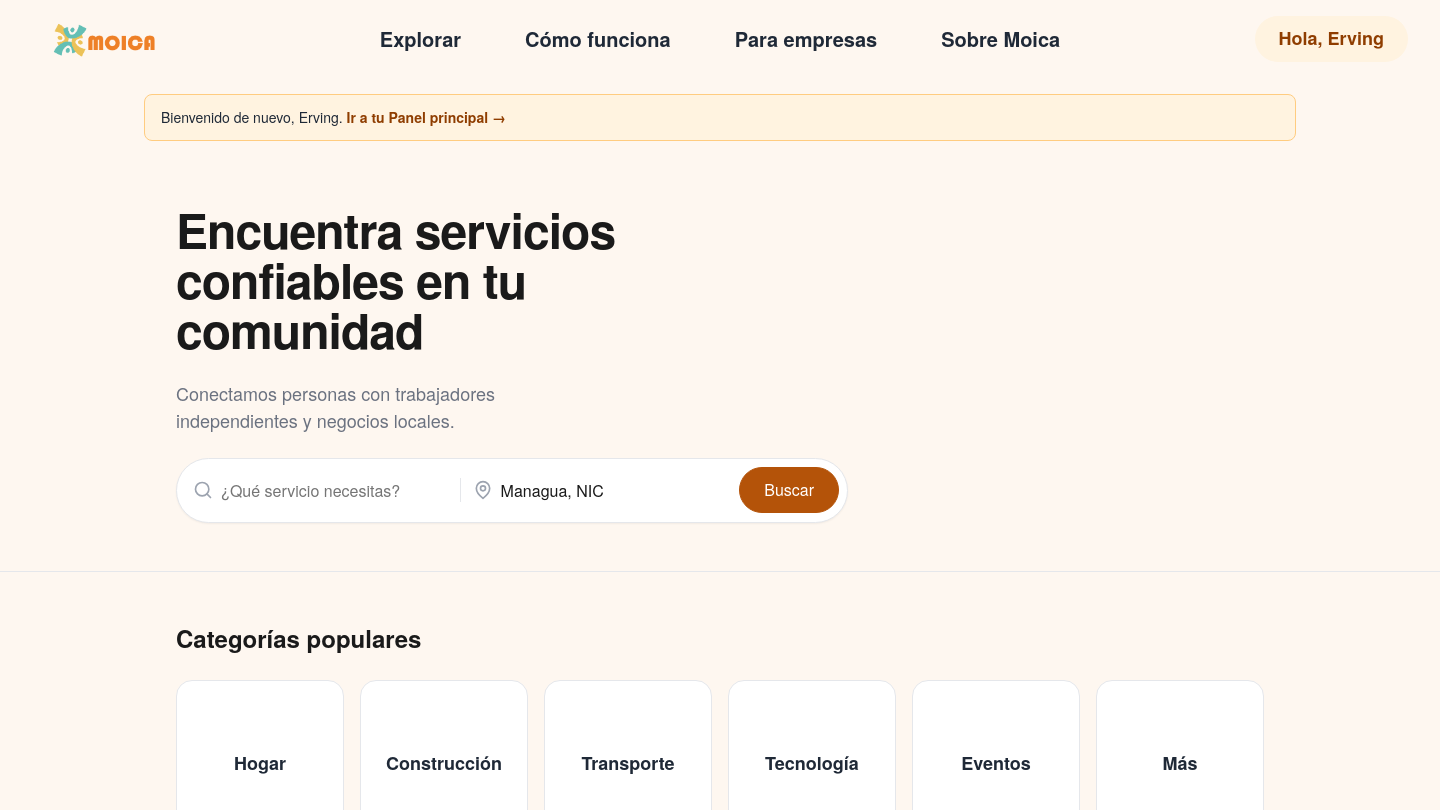
Test: área administrativa › ofrece el área administrativa en el inicio solo a quien tiene el rol
Click the button "Hola, Erving" at (1331, 39), box [1255,16,1408,62]
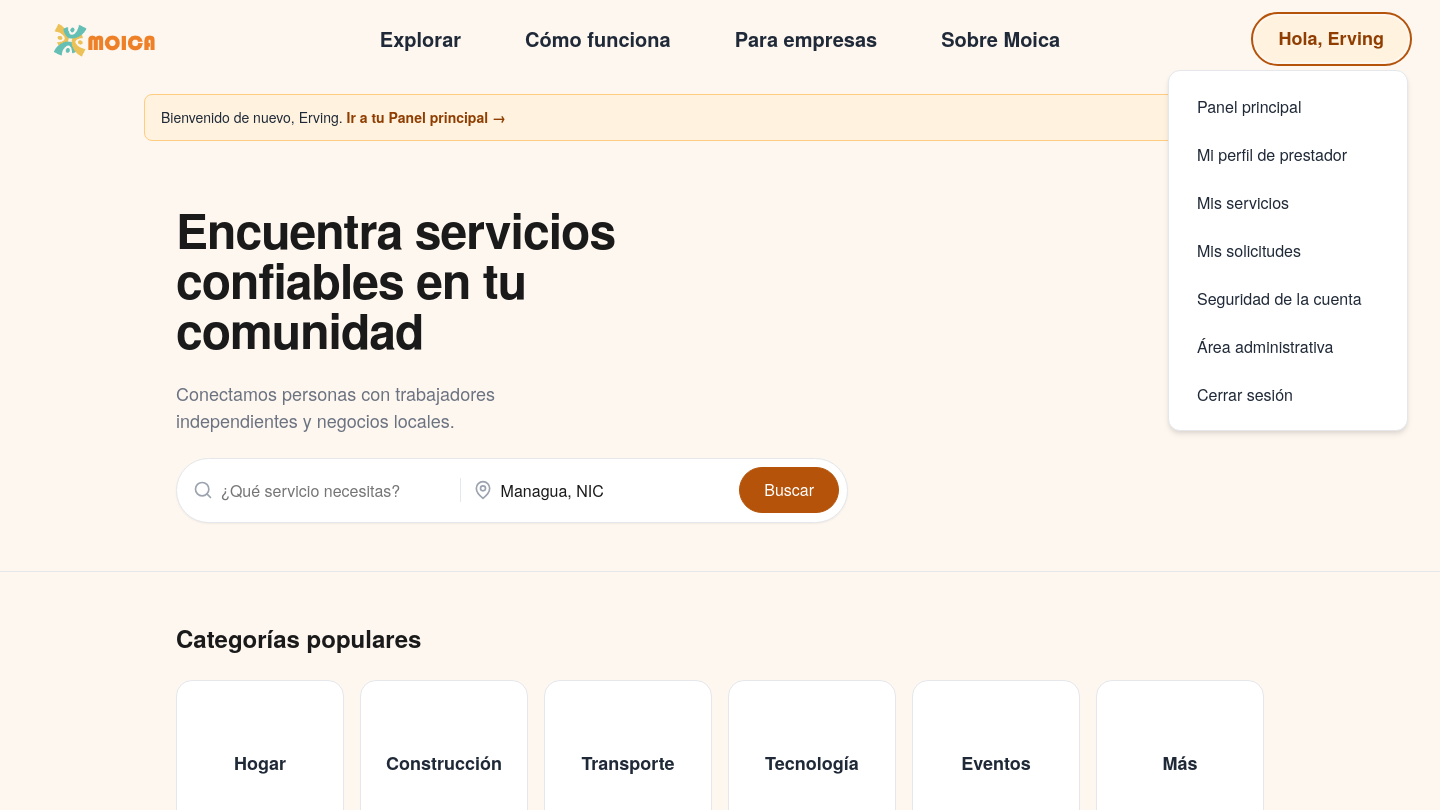
Expected: the link "Área administrativa" is shown, [1197,335,1333,358]
